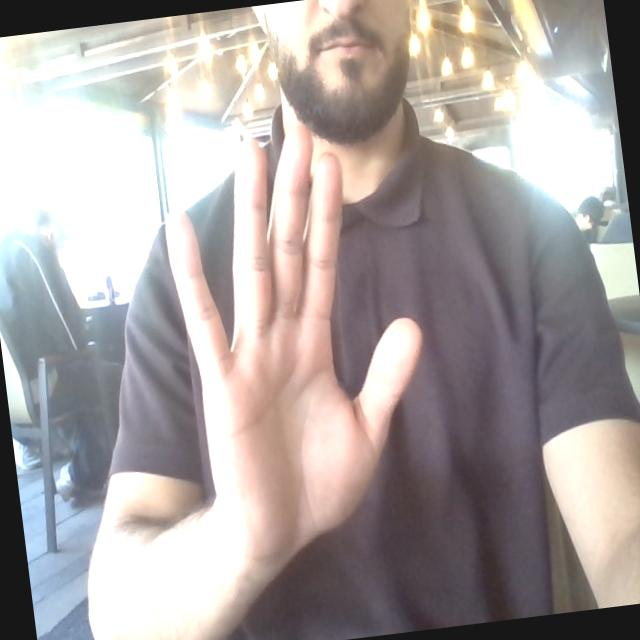Hand: (166, 128, 421, 563)
